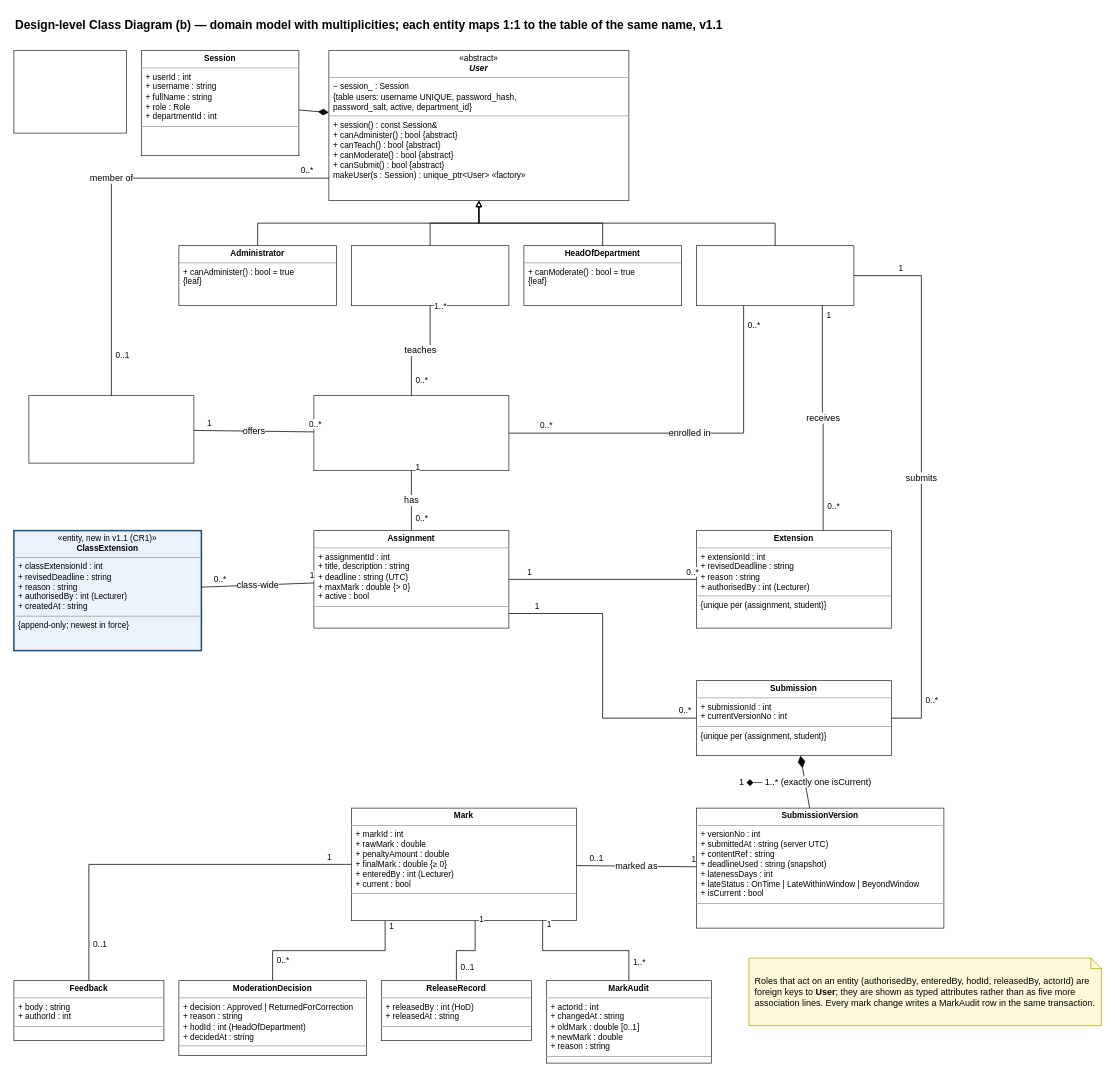
Some shapes in this 1115 by 1076 pixel diagram are drawn without their labels. Each missing label, with the centre of its shape:
Course + courseId : int + code : string {unique} + title : string: the point at 411,433
Department + departmentId : int + name : string {unique}: the point at 111,429
Lecturer + canTeach() : bool = true {leaf}: the point at 430,275
Student + canSubmit() : bool = true {leaf}: the point at 775,275
«enumeration» Role Administrator Lecturer HeadOfDepartment Student: the point at 69,91
